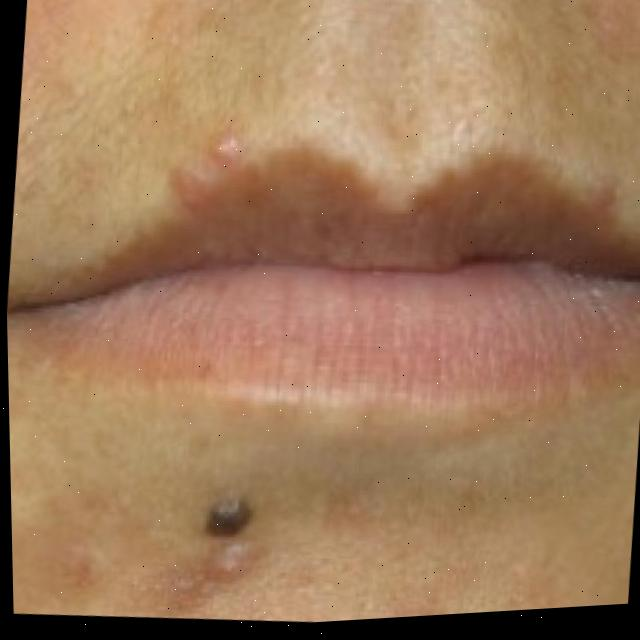Acne: (191, 108, 286, 209)
